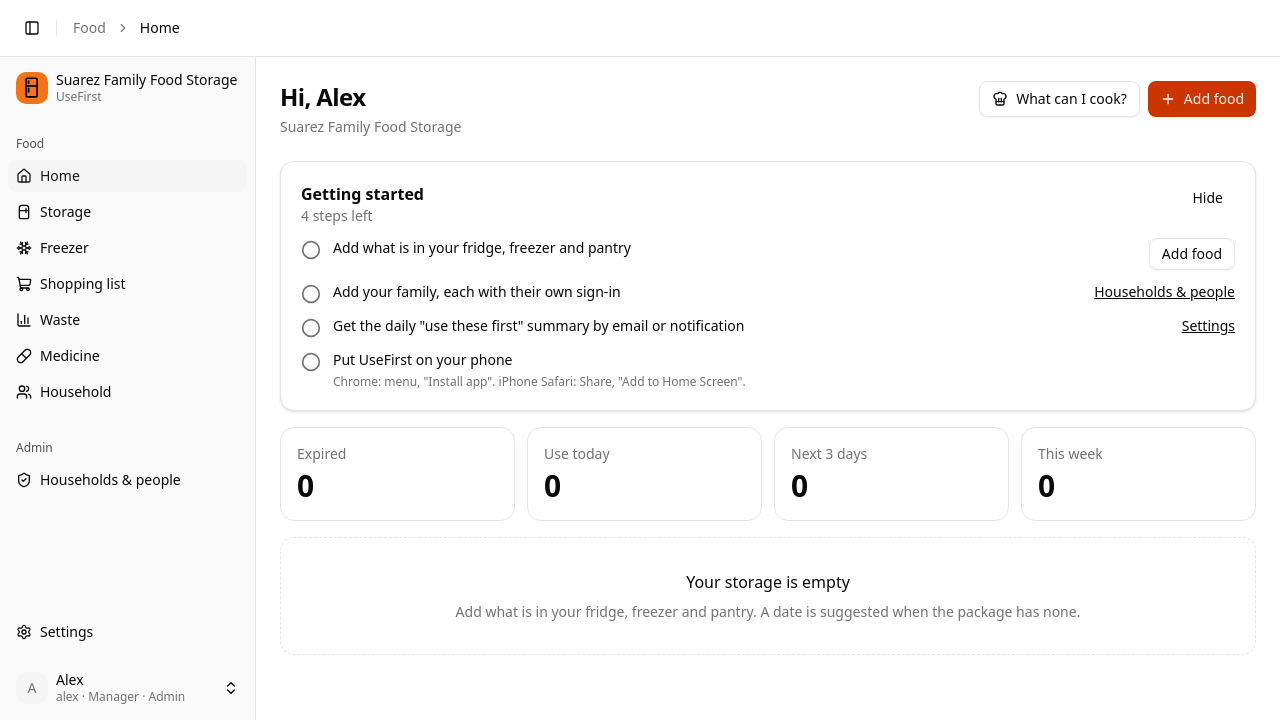
Scenario: Getting started › lists what is left for an admin of a new household, and hides
Expected: the text "4 steps left" is shown, [301,206,373,225]
Click the 2nd button "Add food": (1192, 254) [1149,238,1235,270]
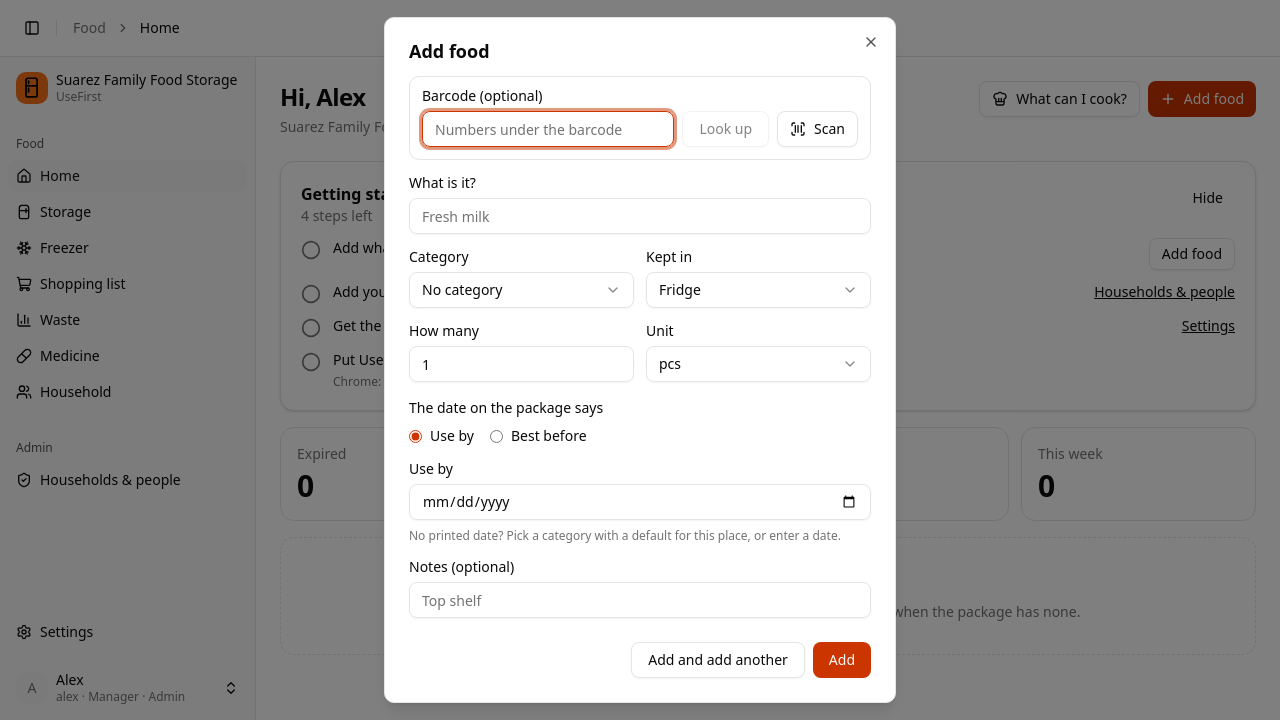
Result: the dialog is shown at [384,17,896,703]
Press Escape
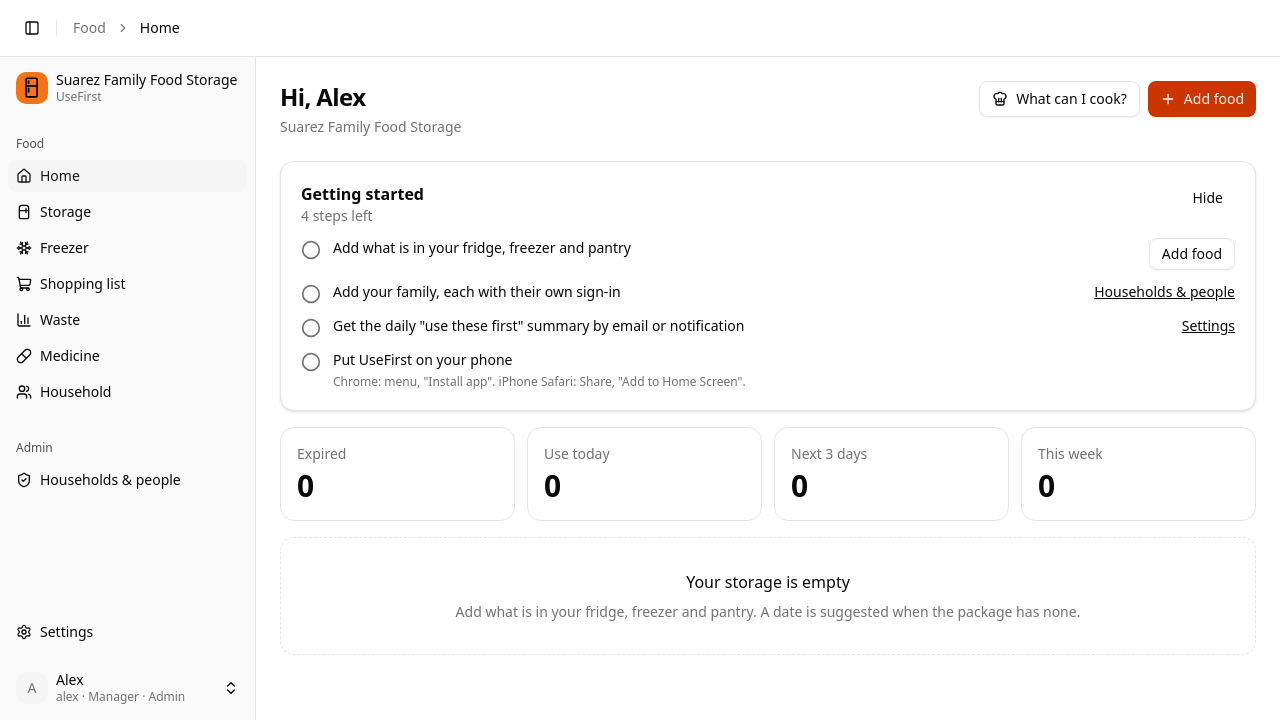
Click the button "Hide": (1208, 198) [1180,182,1235,214]
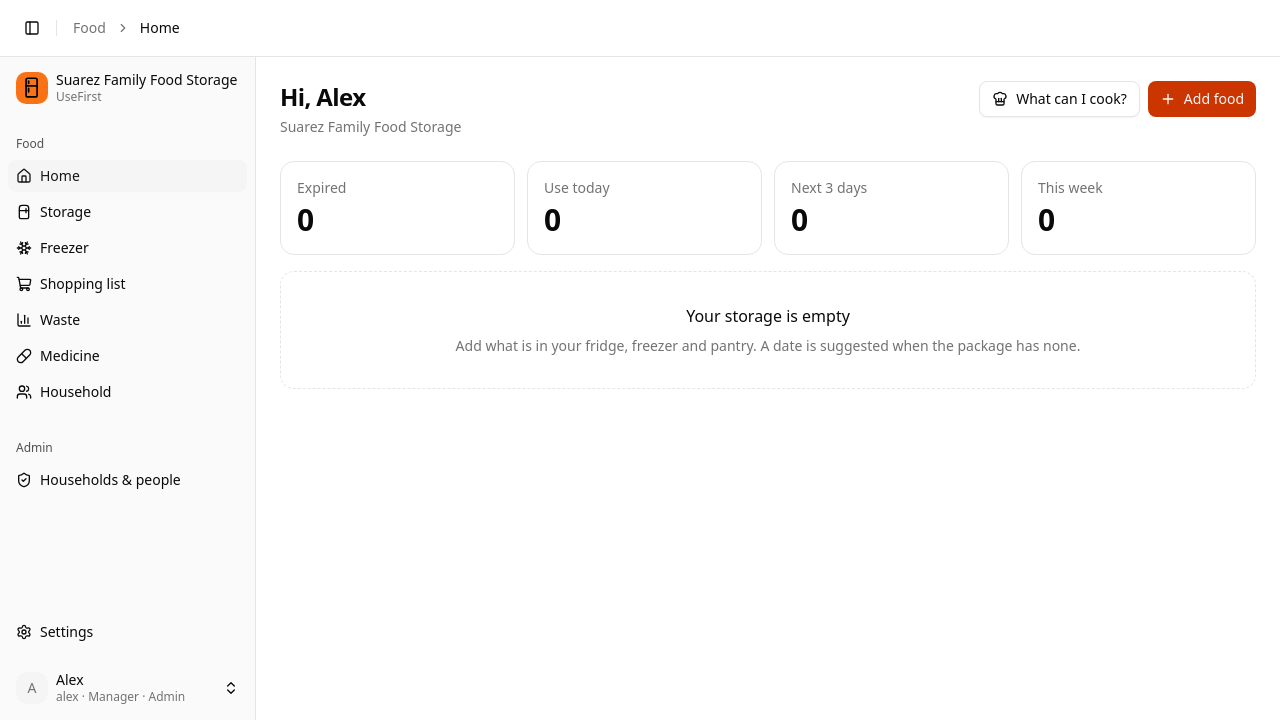
Result: the heading "Getting started" is gone
